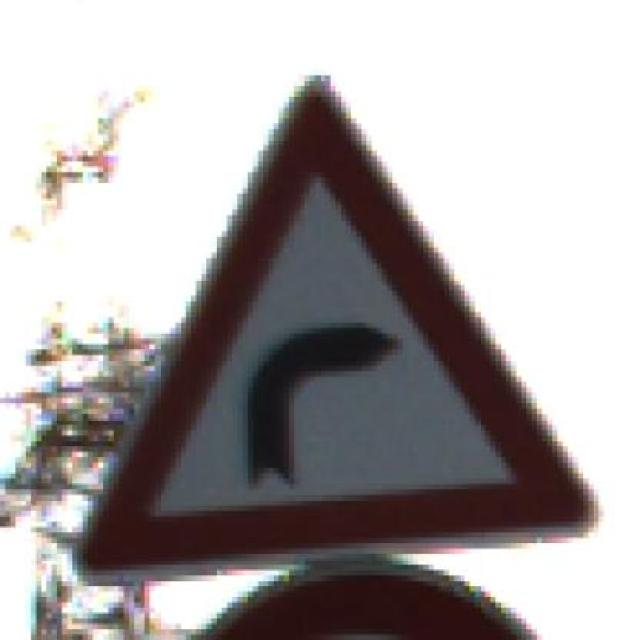Dangerous Rright Curve Ahead: (72, 65, 594, 586)
